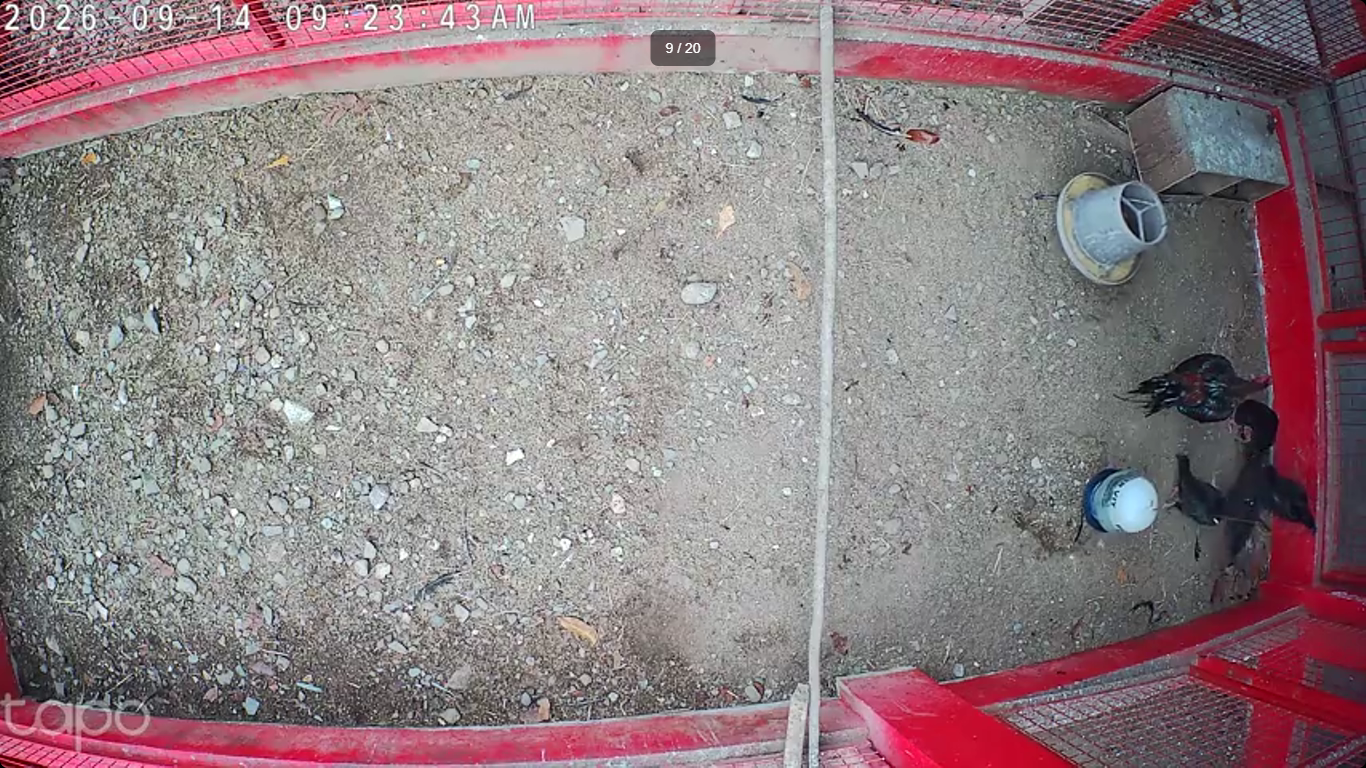Chicken: (1211, 445, 1269, 564), (1151, 447, 1231, 532), (1268, 449, 1319, 539)
Rooster: (1109, 347, 1282, 427)
